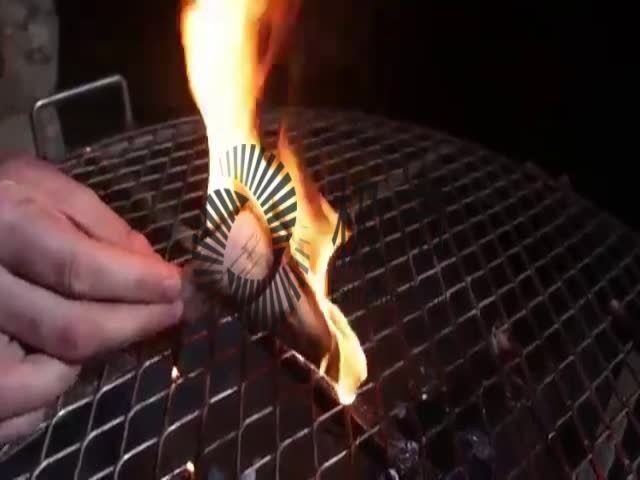fire: (179, 1, 367, 407), (169, 366, 180, 379)
